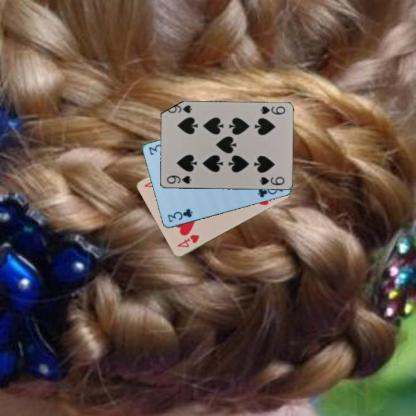3c: (165, 206, 194, 224)
4h: (174, 232, 200, 249)
9s: (164, 173, 192, 185), (258, 104, 286, 116)
